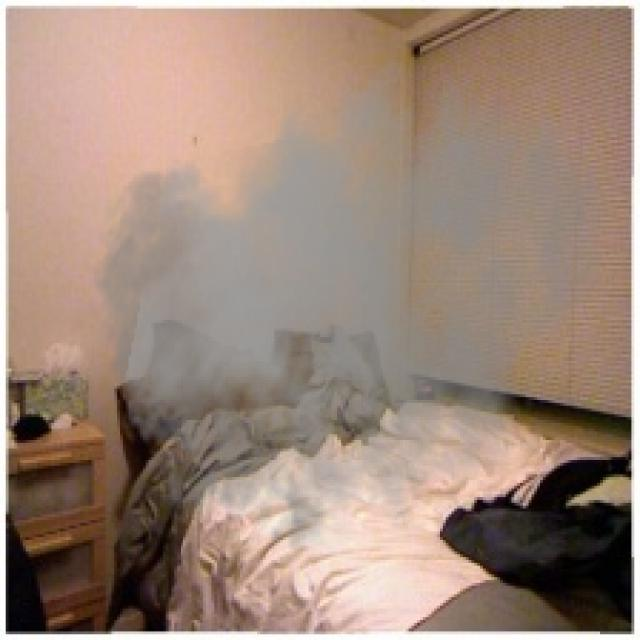smoke: (86, 29, 608, 572)
